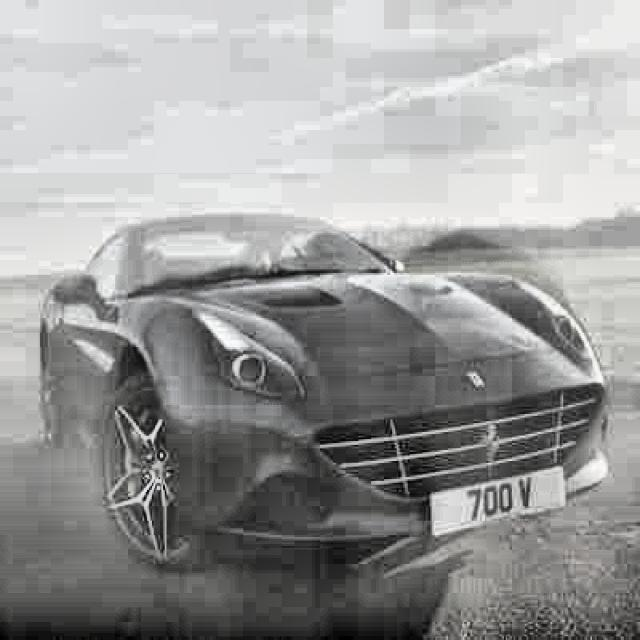license_plate: (449, 476, 546, 527)
